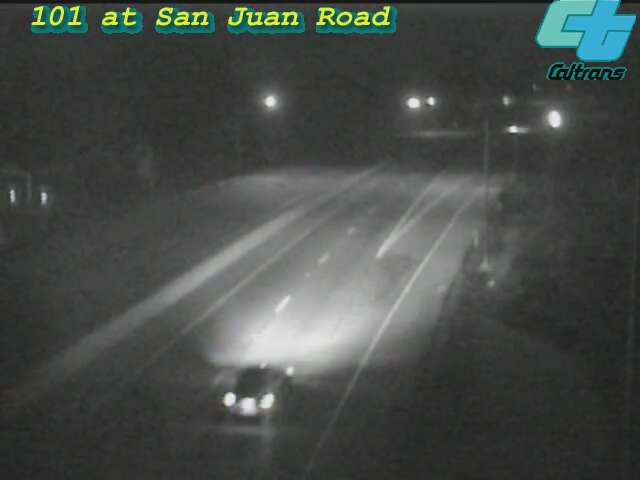vehicle: (201, 344, 311, 454), (491, 104, 541, 154), (528, 93, 578, 143)
